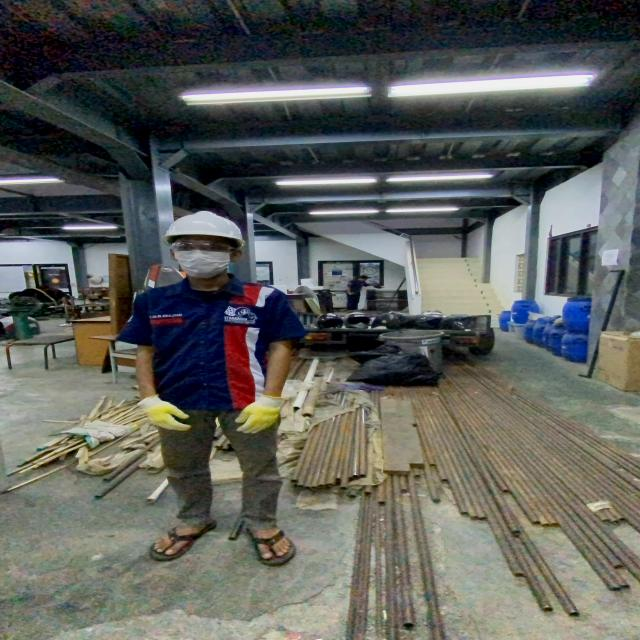face_mask: (170, 238, 232, 282)
glasses: (168, 239, 228, 254)
hand_glove: (232, 392, 292, 438), (132, 394, 195, 434)
head_helmet: (160, 209, 246, 246)
person: (112, 207, 298, 570)
